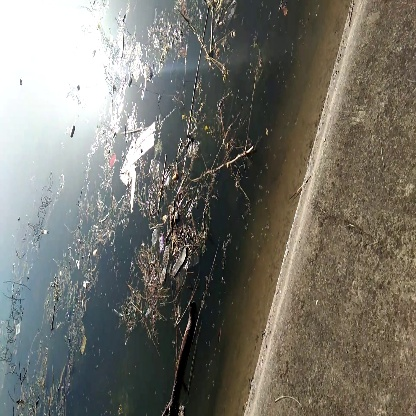branch: (163, 297, 214, 416)
